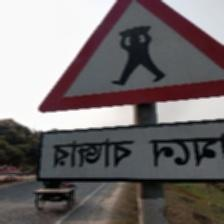Market-in-front: (35, 1, 224, 183)
